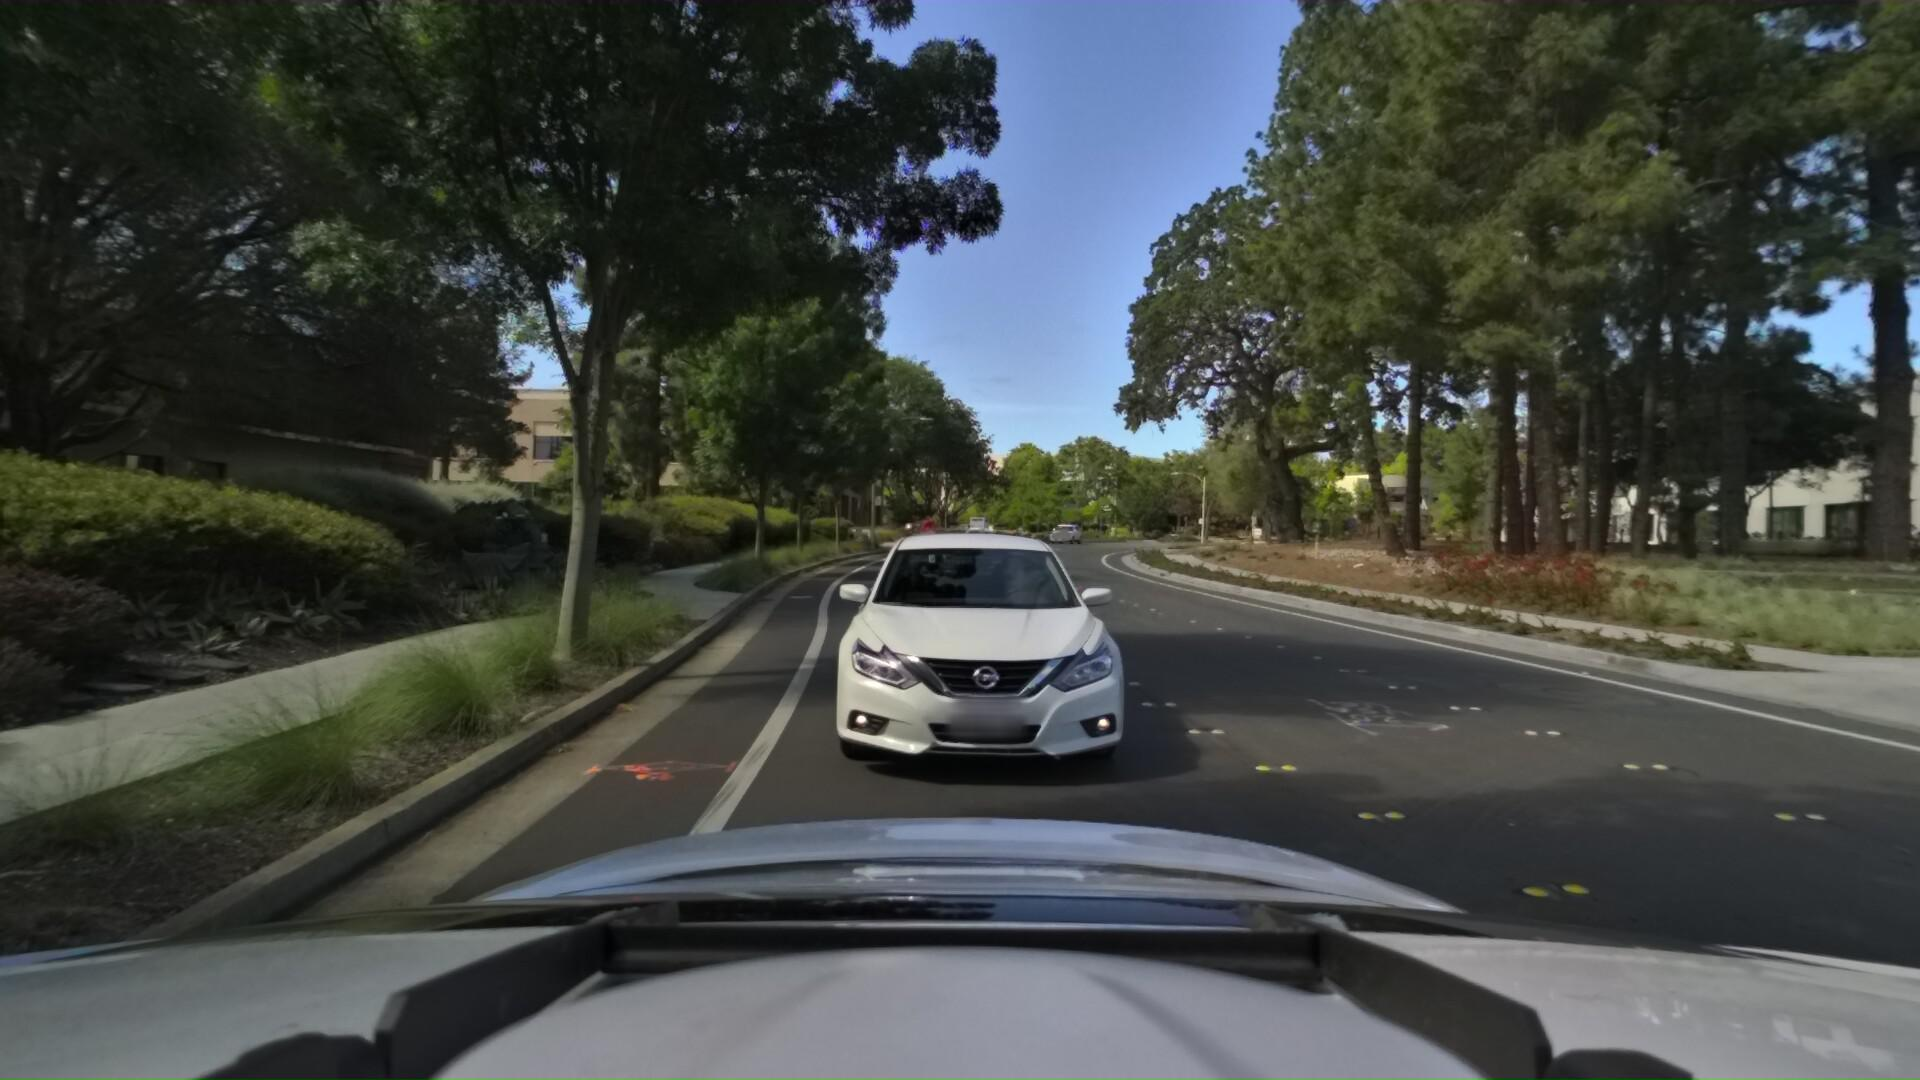car: (814, 489, 1159, 789), (1046, 518, 1083, 542)
